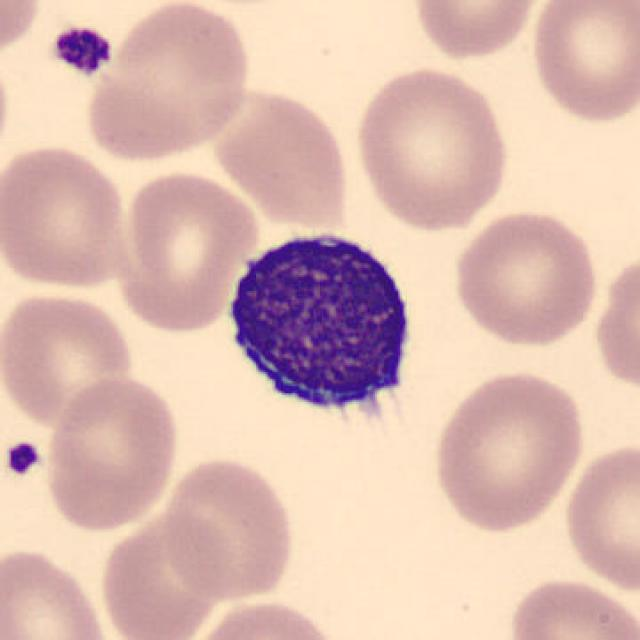Lymphocyte: (212, 217, 428, 442)
Platelets: (48, 21, 117, 78), (2, 437, 44, 480)
RBC: (78, 0, 256, 164), (350, 61, 514, 232), (428, 365, 588, 534), (116, 166, 262, 335), (39, 372, 183, 534), (448, 204, 603, 351), (208, 83, 354, 229), (160, 453, 300, 605), (0, 139, 133, 294), (0, 288, 137, 430), (96, 504, 236, 640), (524, 0, 640, 127), (560, 437, 638, 594), (0, 543, 119, 640), (503, 575, 638, 640), (408, 0, 547, 63), (590, 245, 638, 402), (179, 596, 345, 640), (0, 0, 46, 67)
